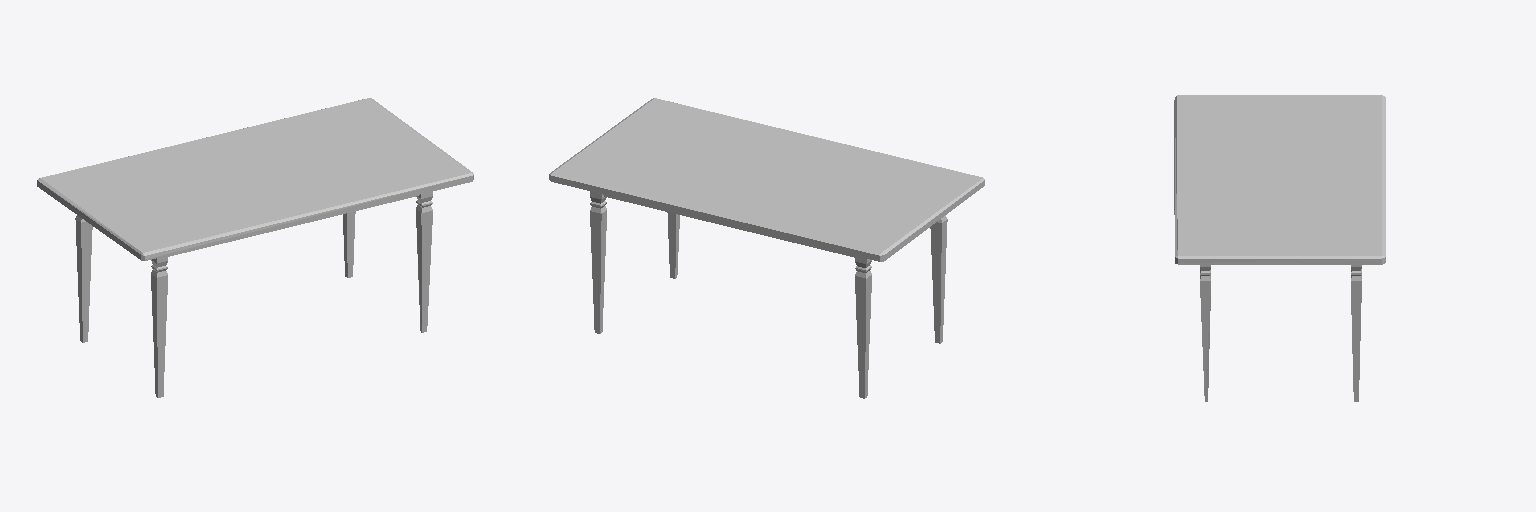
Rendered from table.obj.
3 renders of one model, left to right at view 1: azimuth 30°, elevation 25°; view 2: azimuth 150°, elevation 25°; view 3: azimuth 270°, elevation 25°, orthographic.
Visible parts, largest first — view 1: Table2_texture; view 2: Table2_texture; view 3: Table2_texture.
Boxes of the visible parts, x1,y1,x2,y2 form: Table2_texture: [37, 98, 473, 397]; Table2_texture: [549, 98, 984, 398]; Table2_texture: [1174, 95, 1385, 401].
Bounding box in the file's own units: 3.4 × 1.57 × 1.86.